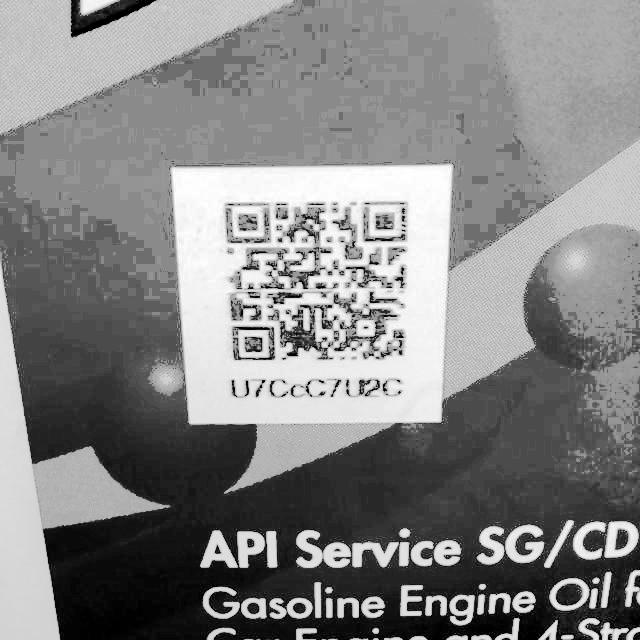qr_code: (216, 193, 419, 365)
